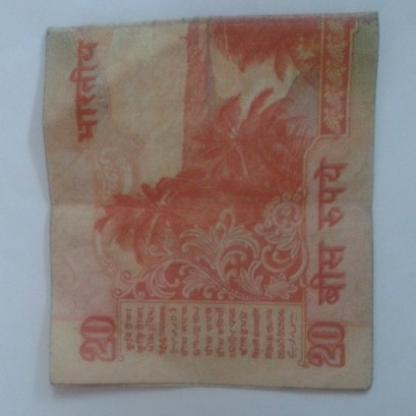Old20Back: (42, 13, 381, 393)
